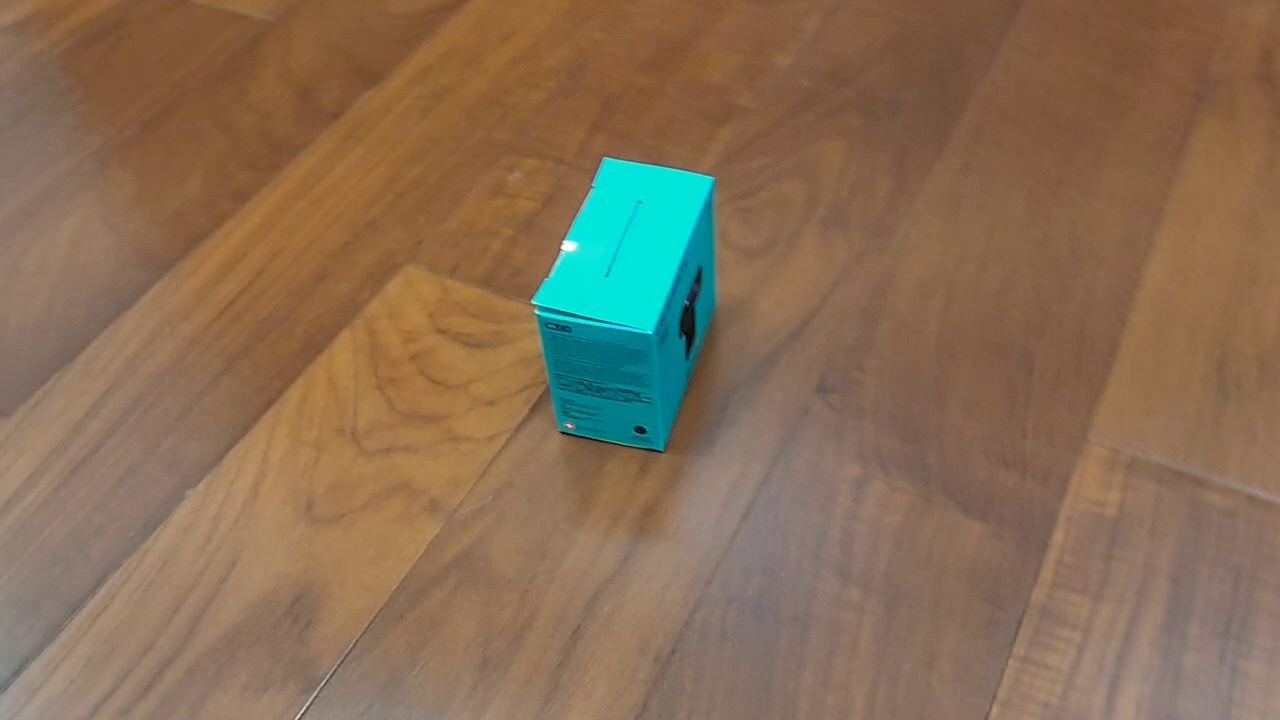webcam: (527, 154, 719, 454)
